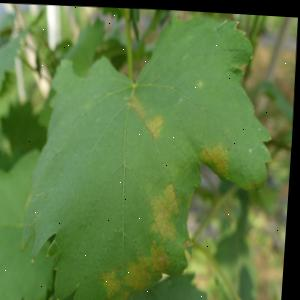Folha: (16, 1, 283, 300)
Fungo: (99, 174, 200, 300), (148, 177, 185, 244), (128, 87, 167, 139), (200, 136, 233, 180), (100, 260, 129, 299), (126, 255, 157, 291), (151, 235, 174, 270), (146, 109, 167, 139), (195, 75, 204, 86), (250, 142, 254, 149), (34, 257, 37, 264)
